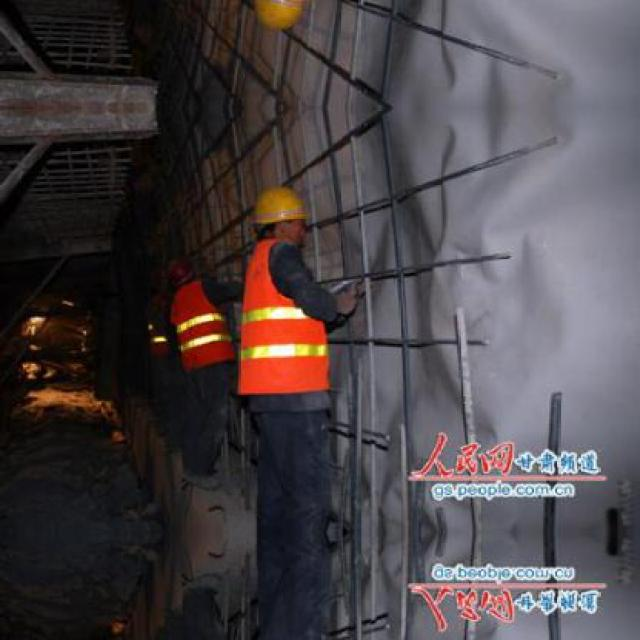helmet: (250, 181, 313, 249), (249, 0, 313, 35), (165, 257, 198, 290)
